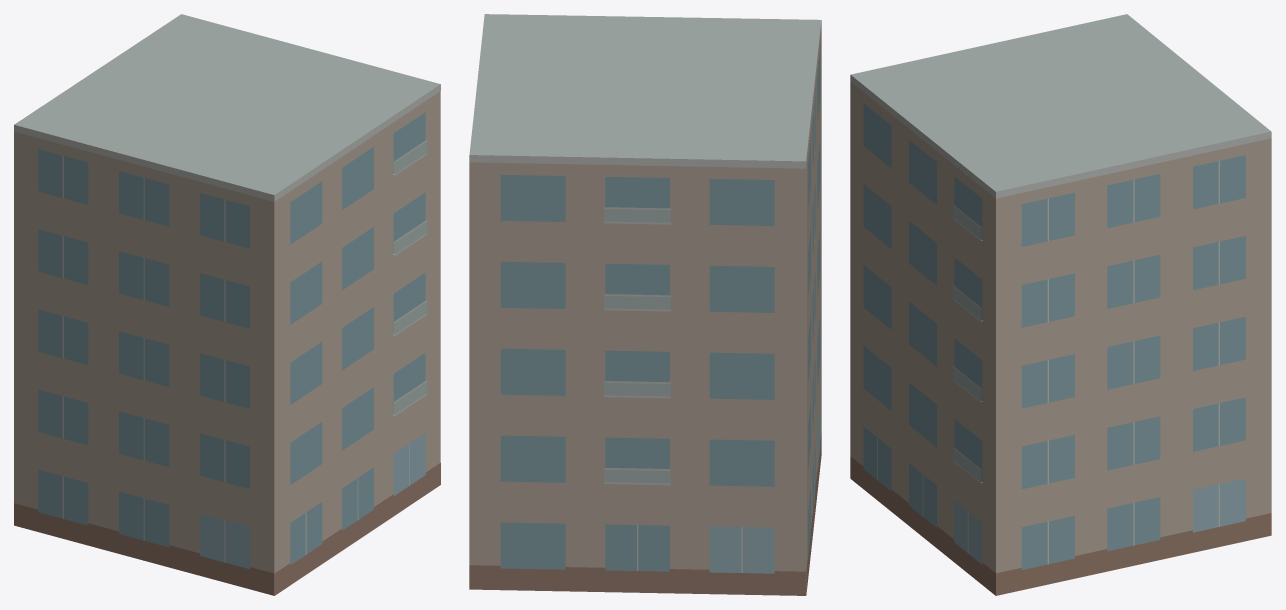
File: survey-upis-32839255.glb
3 renders of one model, left to right at view 1: azimuth 30°, elevation 25°; view 2: azimuth 150°, elevation 25°; view 3: azimuth 270°, elevation 25°, orthographic. The views are drawn at different scales.
Visible parts, largest first — view 1: survey-upis-32839255.tmp; view 2: survey-upis-32839255.tmp; view 3: survey-upis-32839255.tmp.
Part boxes in pixels (x1,y1,x2,y2): survey-upis-32839255.tmp: [14, 14, 440, 595]; survey-upis-32839255.tmp: [469, 14, 821, 595]; survey-upis-32839255.tmp: [850, 14, 1271, 595].
Size of the model in its own units: 13.83 by 14.63 by 13.83.
